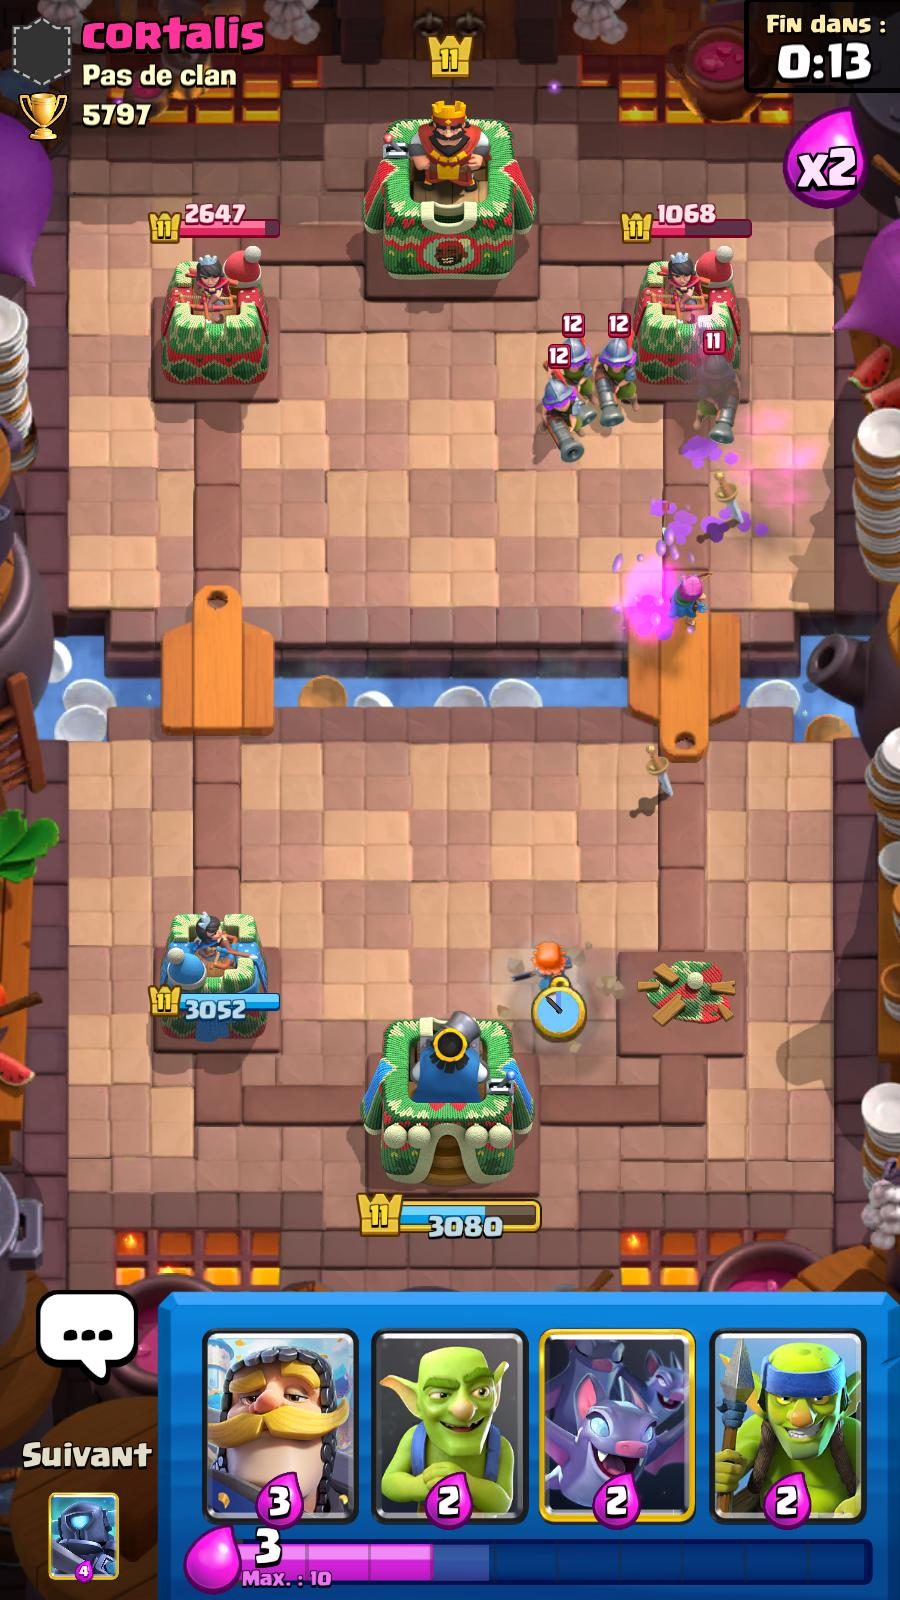archere: (647, 566, 719, 640)
mousquetaire: (688, 342, 755, 460), (596, 329, 652, 438), (535, 371, 592, 469), (543, 313, 601, 405)
valkyrie: (512, 941, 593, 1038)
